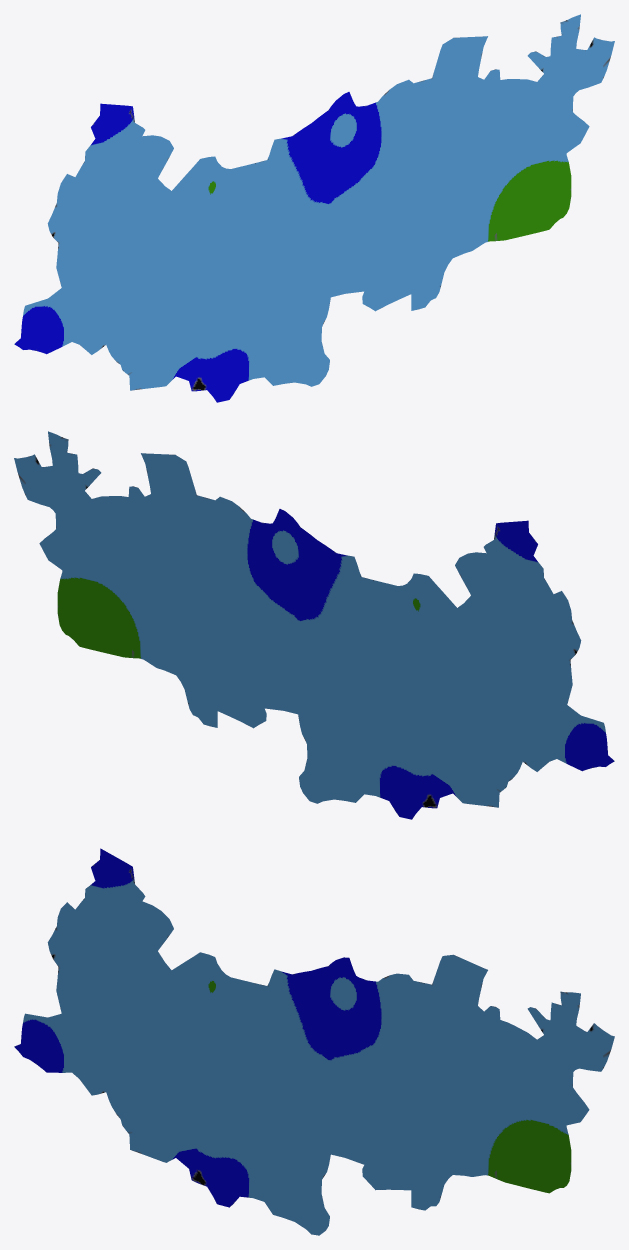
File: zhengti.obj
The picture shows the model from 3 angles, top to bottom: view 1: azimuth 30°, elevation 25°; view 2: azimuth 150°, elevation 25°; view 3: azimuth 330°, elevation 25°; orthographic projection.
Parts seen in each view (by area): view 1: texture; view 2: texture; view 3: texture.
Part boxes in pixels (bbox=[...]): texture: bbox=[14, 14, 614, 402]; texture: bbox=[14, 431, 614, 819]; texture: bbox=[14, 848, 614, 1235].
Bounding box in the file's own units: 84.8 × 45.13 × 0.
